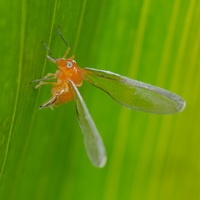insect: (32, 27, 185, 167)
